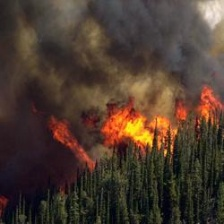fire: (44, 88, 223, 171)
smoke: (1, 2, 192, 94)
